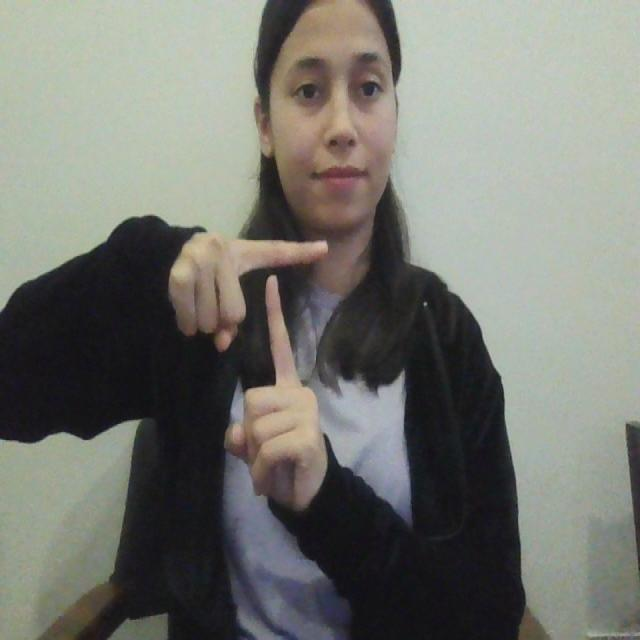Tesekkurler: (220, 226, 339, 407)
